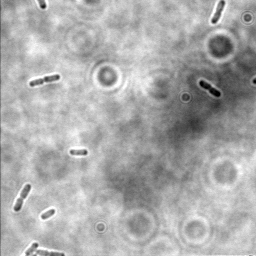Dividing: (12, 183, 32, 212), (198, 78, 222, 99), (28, 73, 61, 88), (210, 0, 226, 26)
Rod: (68, 147, 89, 157), (40, 208, 56, 220)
